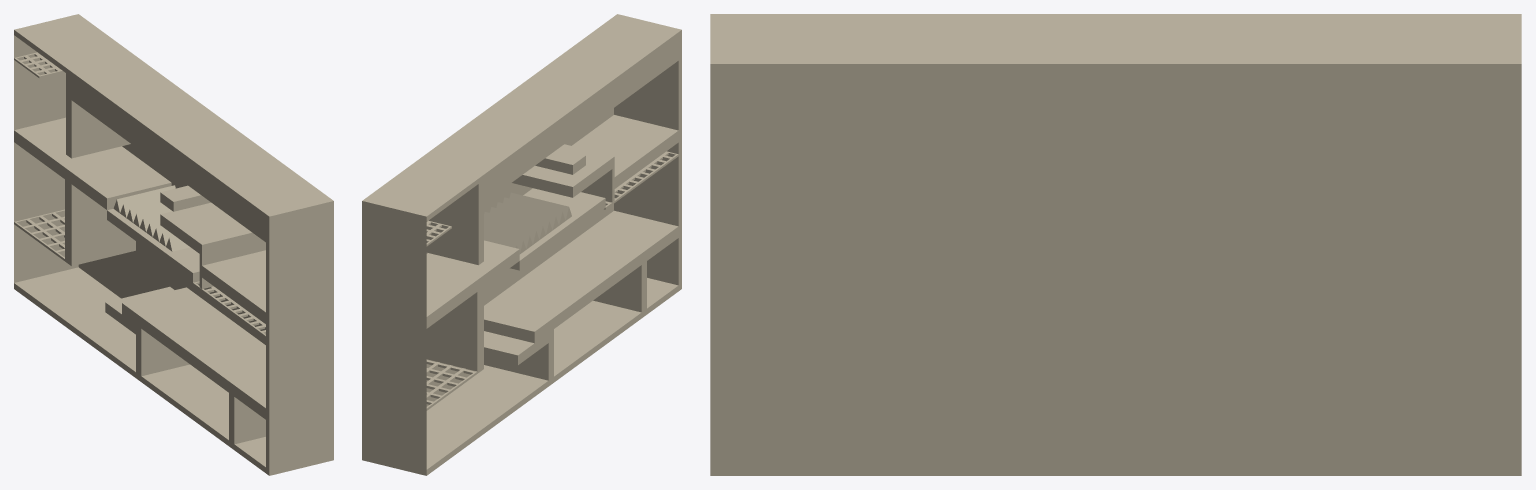
3 renders of one model, left to right at view 1: azimuth 30°, elevation 25°; view 2: azimuth 150°, elevation 25°; view 3: azimuth 270°, elevation 25°, orthographic. The views are drawn at different scales.
Parts seen in each view (by area): view 1: 立方体.030, 立方体.031, 立方体.035, 立方体.032, 立方体.033, 立方体.034; view 2: 立方体.030, 立方体.031, 立方体.035, 立方体.032, 立方体.033, 立方体.034; view 3: 立方体.031, 立方体.030, 立方体.035, 立方体.033.
Part boxes in pixels (x1,y1,x2,y2): 立方体.030: (14, 14, 333, 475); 立方体.031: (14, 35, 265, 344); 立方体.035: (113, 185, 189, 251); 立方体.032: (14, 209, 135, 266); 立方体.033: (193, 281, 265, 337); 立方体.034: (14, 52, 64, 78); 立方体.030: (362, 14, 681, 475); 立方体.031: (362, 108, 613, 475); 立方体.035: (484, 192, 571, 254); 立方体.032: (365, 359, 483, 410); 立方体.033: (604, 151, 678, 209); 立方体.034: (426, 220, 451, 246); 立方体.031: (710, 64, 1521, 475); 立方体.030: (710, 14, 1521, 475); 立方体.035: (1039, 224, 1225, 242); 立方体.033: (720, 258, 952, 261).
Size of the model in its own units: 381 by 1463 by 2611.
